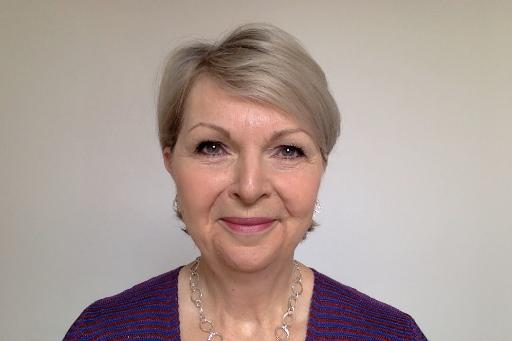left_eye: (272, 145, 309, 162)
left_lip_corner: (272, 218, 287, 226)
right_eye: (194, 140, 233, 160)
right_lip_corner: (215, 216, 230, 225)
